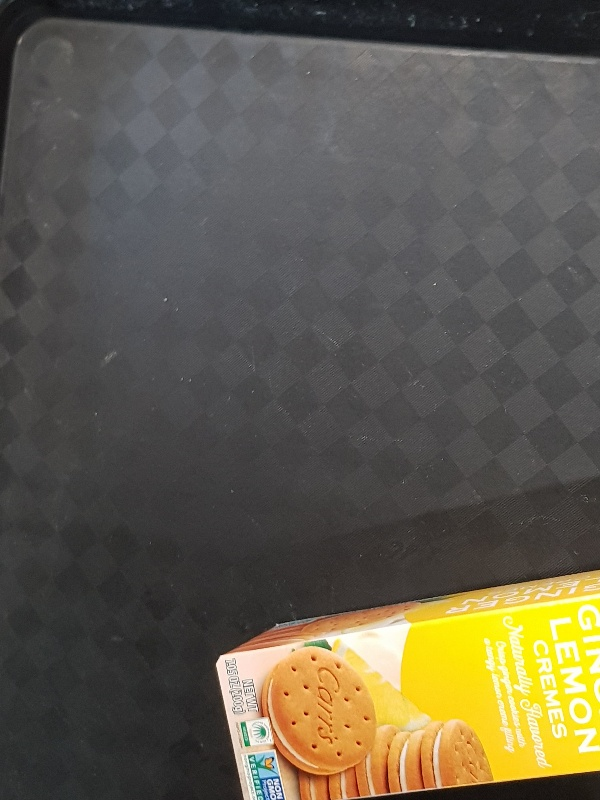Carr's Ginger Lemon Cremes: (214, 564, 600, 799)
